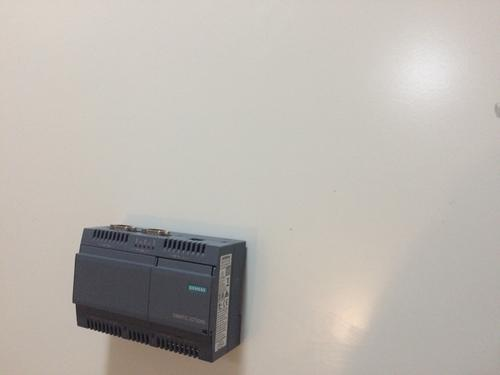iot2000: (71, 222, 247, 364)
